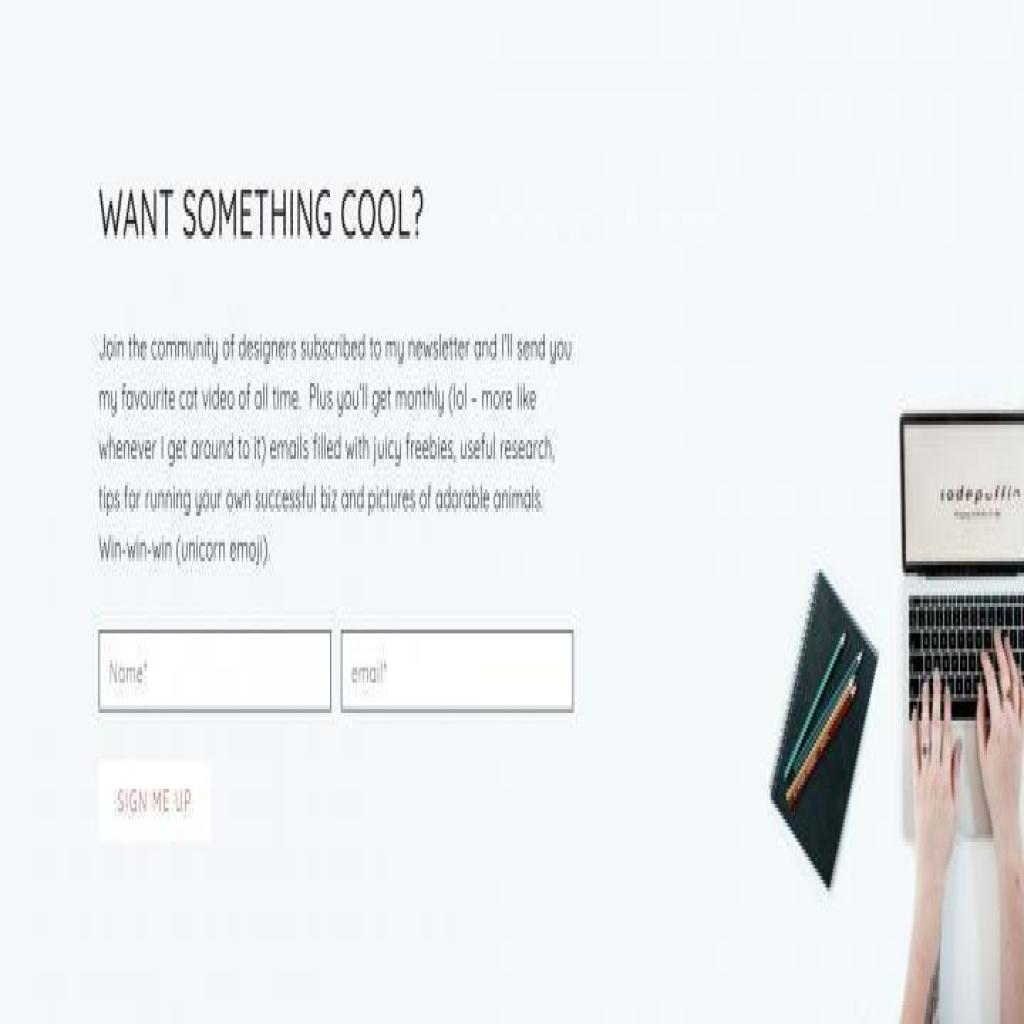button: (96, 754, 210, 846)
input: (340, 622, 573, 717), (97, 626, 333, 717)
